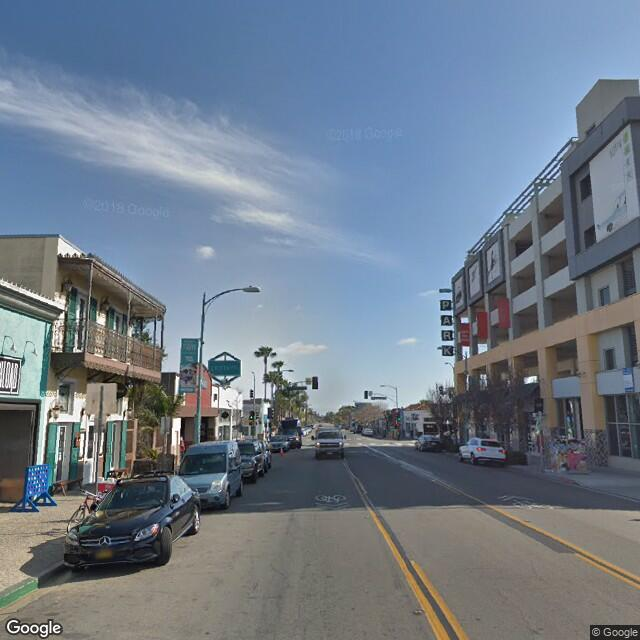light: (240, 281, 262, 293)
road line: (402, 568, 465, 637), (379, 501, 425, 572), (539, 527, 619, 563), (469, 491, 521, 525)
window: (616, 259, 637, 298), (600, 346, 619, 369)
